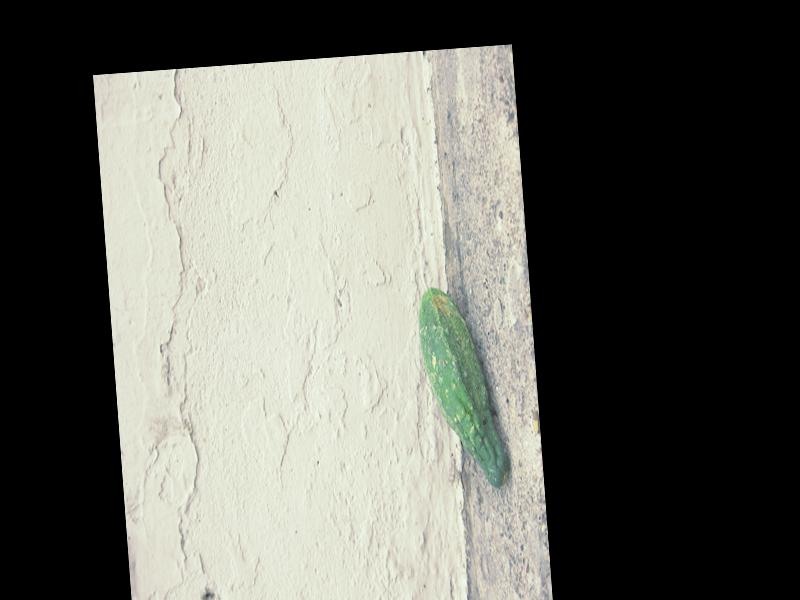Cucumber: (415, 283, 509, 490)
